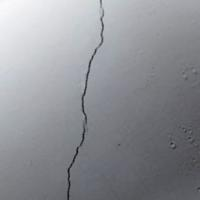crack: (60, 0, 118, 199)
